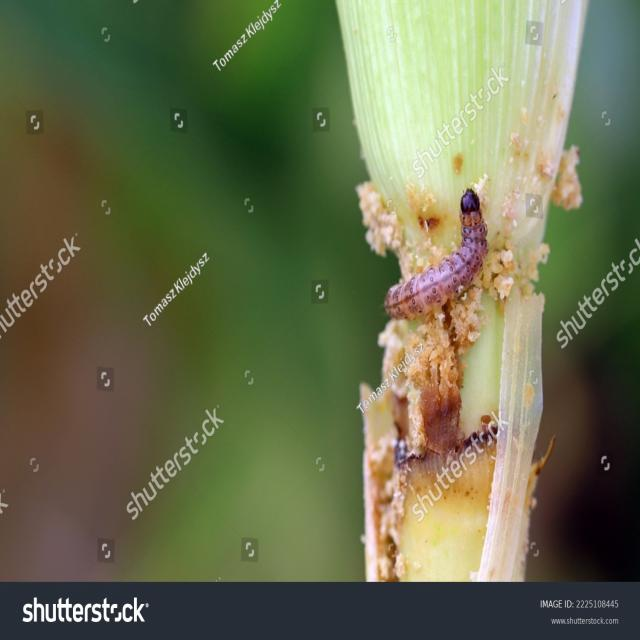cornborer-Larva-: (372, 187, 497, 332)
